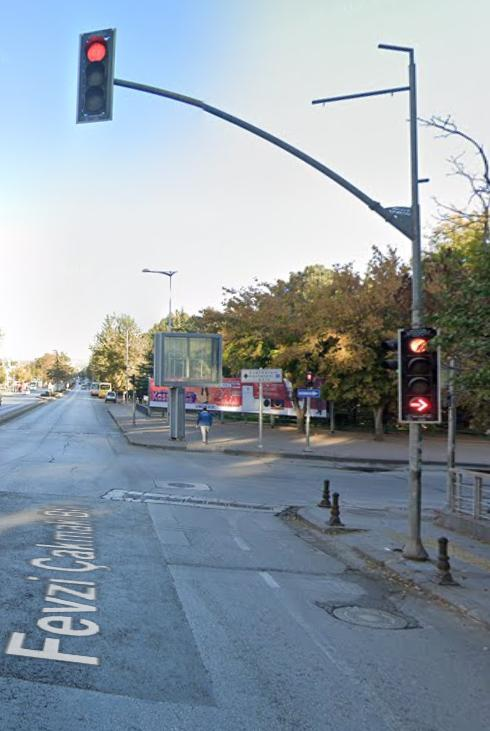redlight: (68, 19, 119, 128)
